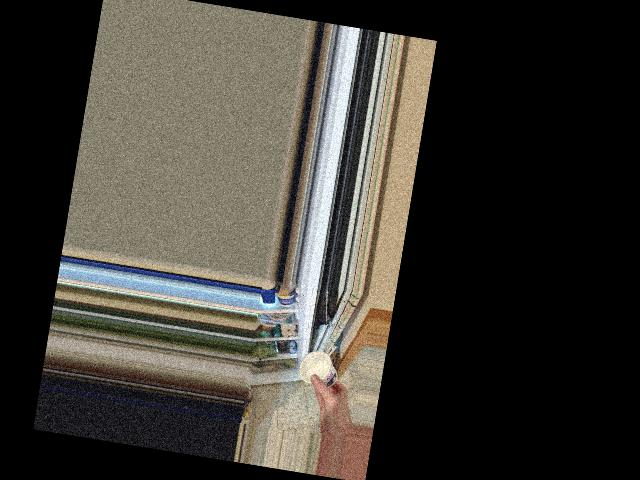cotage: (297, 346, 344, 392)
